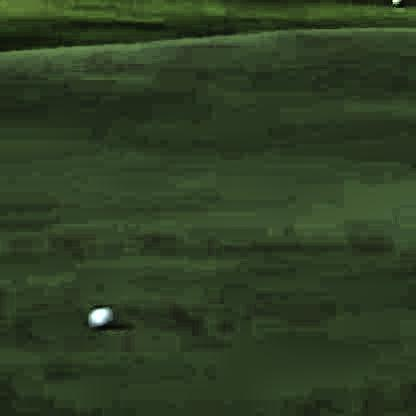golfball: (85, 304, 113, 328)
